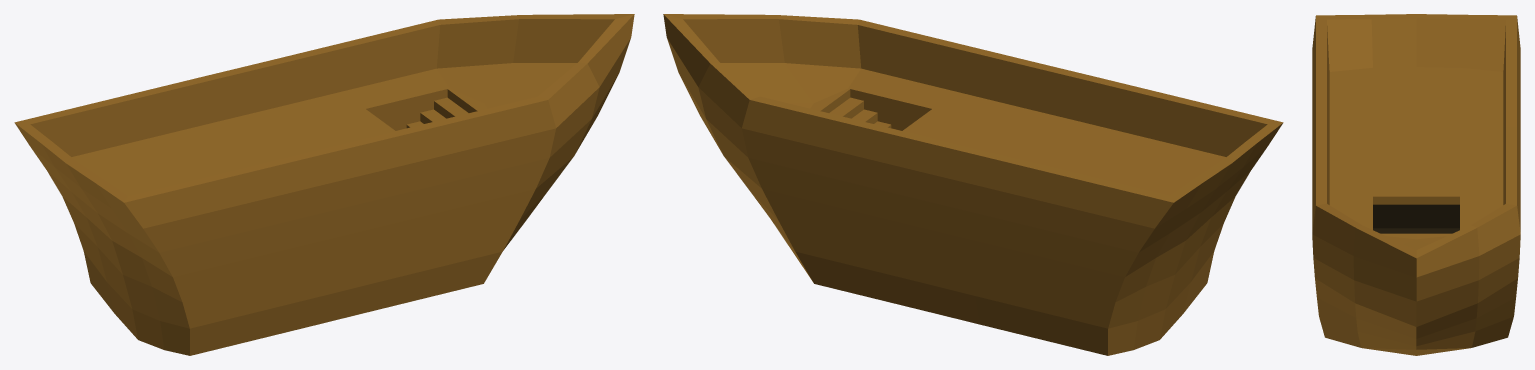
The model's file is ship.fbx.
3 views of the same model, side by side, from view 1: azimuth 30°, elevation 25°; view 2: azimuth 150°, elevation 25°; view 3: azimuth 270°, elevation 25° (orthographic). The views are drawn at different scales.
Parts seen in each view (by area): view 1: Boat; view 2: Boat; view 3: Boat.
Part boxes in pixels (bbox=[...]): Boat: bbox=[14, 14, 634, 355]; Boat: bbox=[663, 14, 1283, 355]; Boat: bbox=[1312, 14, 1520, 355].
Size of the model in its own units: 697 by 240 by 242.
